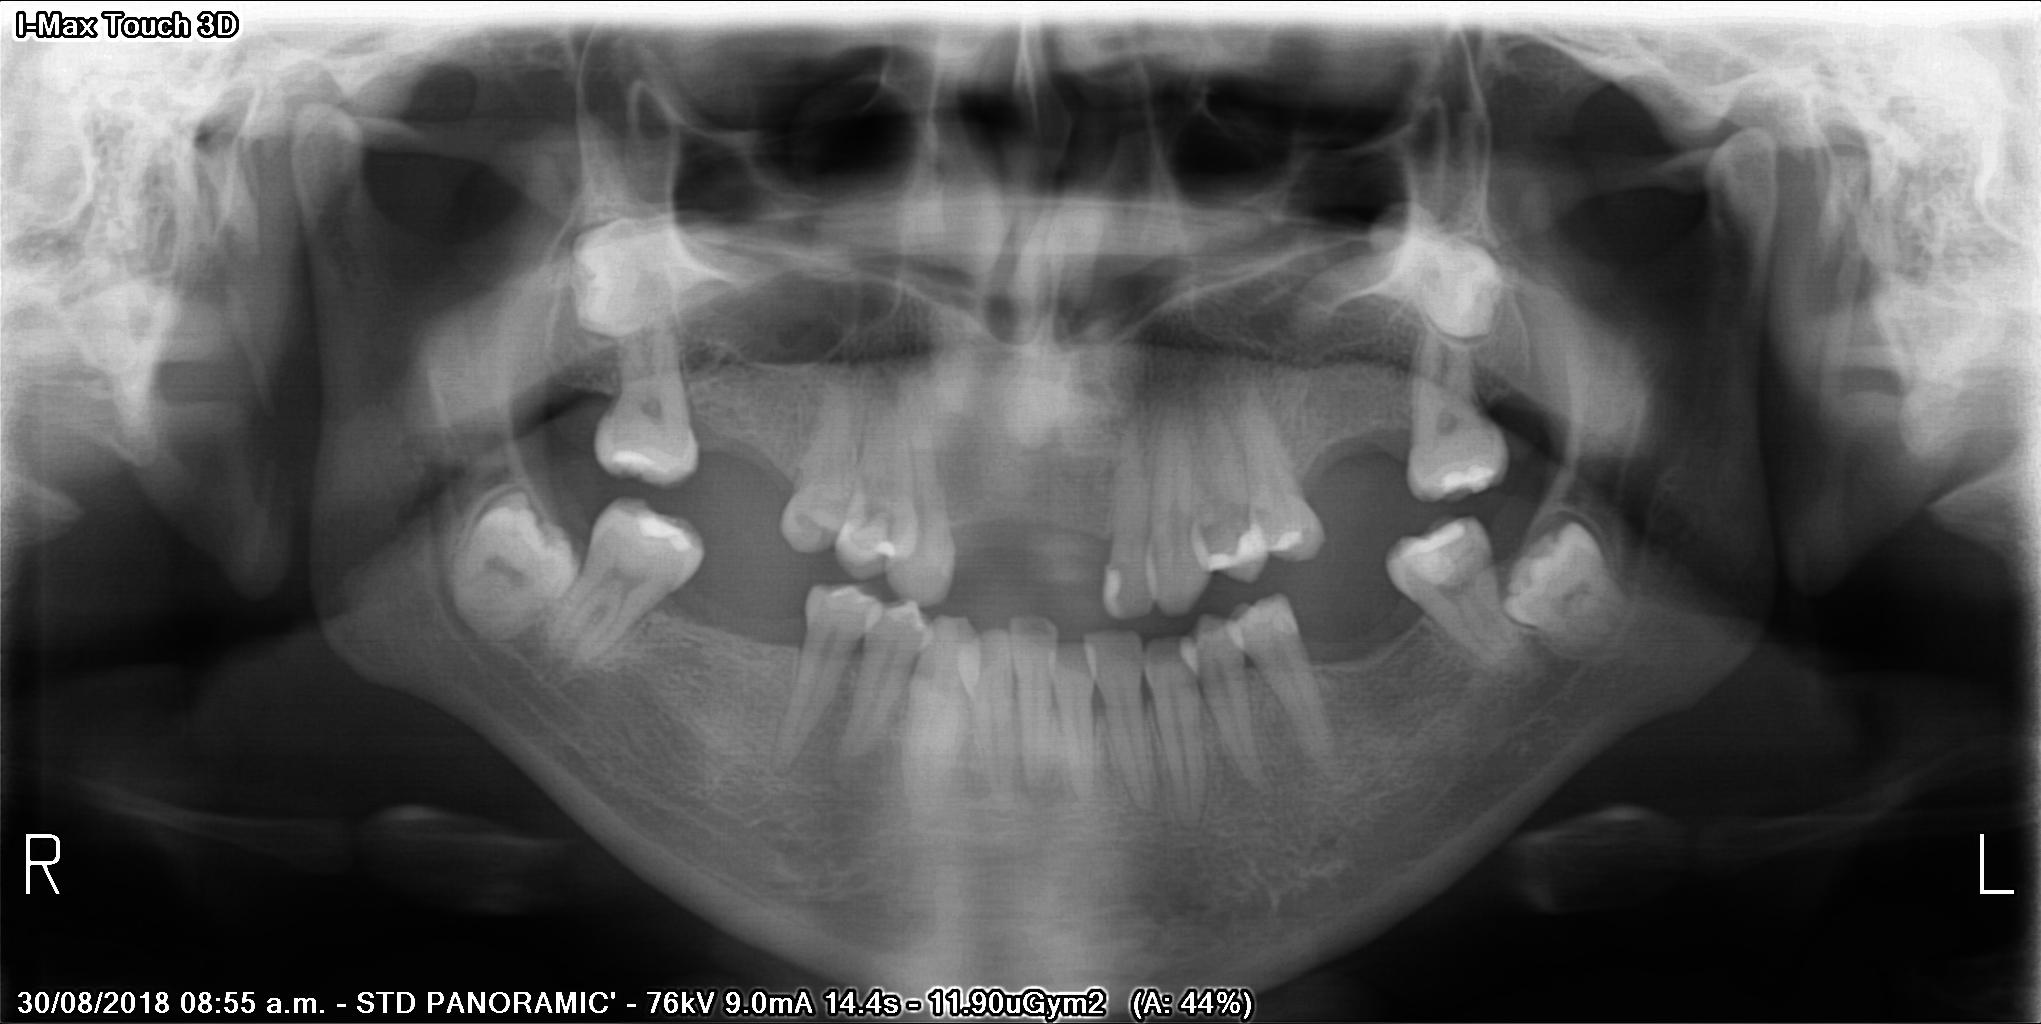Çürük: (597, 434, 696, 482), (619, 503, 703, 556), (1387, 516, 1476, 563), (1430, 451, 1502, 499), (1187, 550, 1276, 579), (1096, 562, 1136, 616), (867, 522, 908, 571), (1267, 538, 1310, 559)
Çürük Bölgesi: (1489, 542, 1534, 603), (793, 505, 837, 550), (1196, 515, 1259, 545), (1252, 500, 1294, 539)
